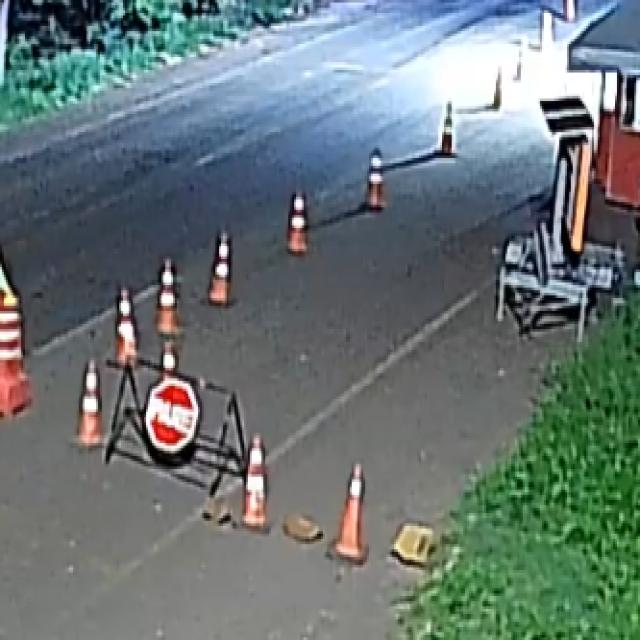big_cone: (0, 303, 24, 405)
small_cone: (338, 460, 369, 562), (241, 435, 270, 529), (75, 358, 105, 447), (207, 230, 234, 305), (114, 285, 139, 365), (155, 260, 181, 336), (286, 190, 310, 254), (364, 146, 385, 209), (439, 102, 455, 154), (491, 69, 503, 109)
stop_sign: (146, 381, 198, 454)
